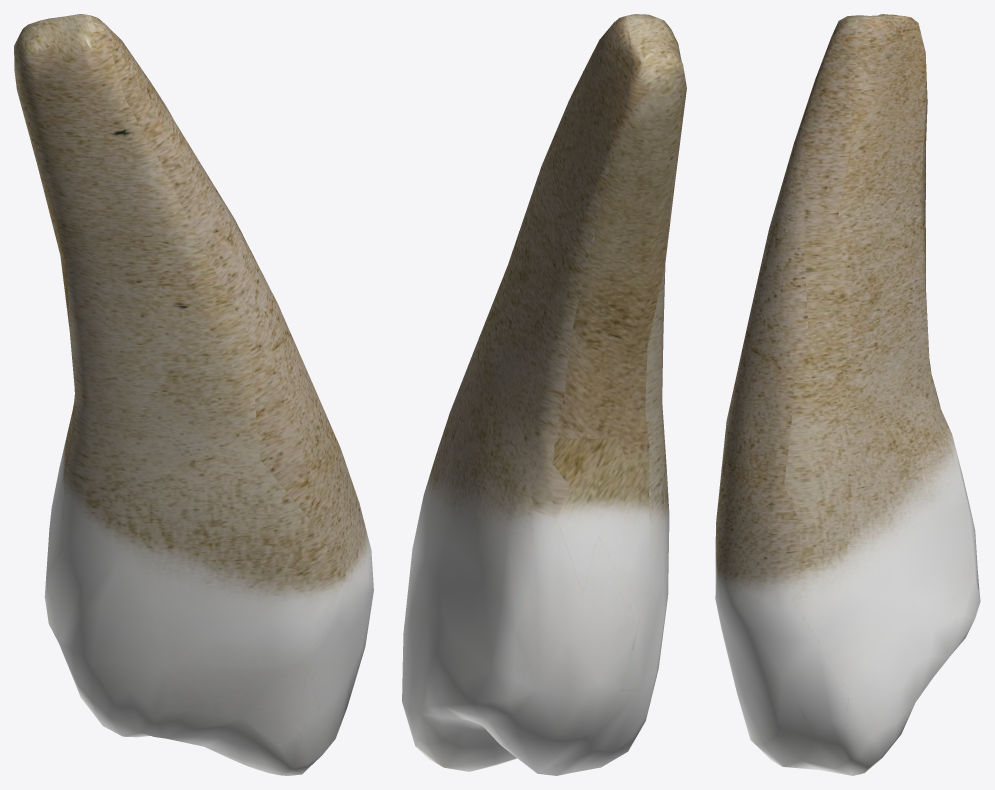
The model's file is хоншоорын 2-р бага араа.fbx.
The picture shows the model from 3 angles, left to right: view 1: azimuth 30°, elevation 25°; view 2: azimuth 150°, elevation 25°; view 3: azimuth 270°, elevation 25°; orthographic projection. The views are drawn at different scales.
Parts seen in each view (by area): view 1: polySurface54; view 2: polySurface54; view 3: polySurface54.
Boxes of the visible parts, x1,y1,x2,y2 form: polySurface54: (14,14,373,775); polySurface54: (402,14,686,775); polySurface54: (715,14,980,775).
Size of the model in its own units: 4.21 by 10.59 by 3.71.
Materials: 1 (1 with a texture image).
